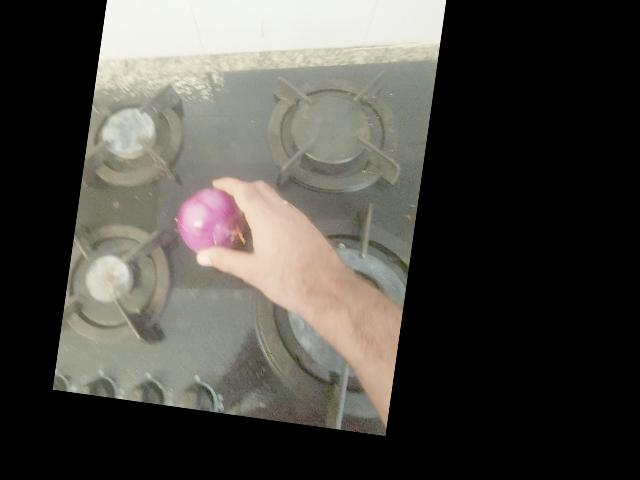onion: (133, 47, 210, 125)
